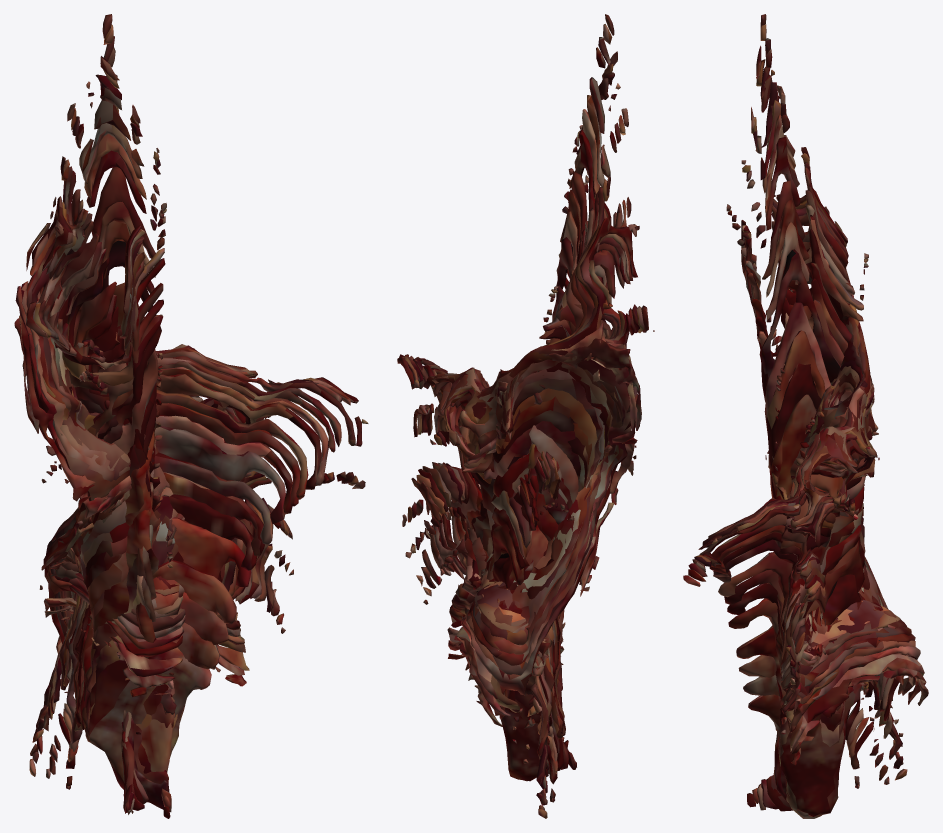
Rendered from Blood_10.fbx.
3 views of the same model, side by side, from view 1: azimuth 30°, elevation 25°; view 2: azimuth 150°, elevation 25°; view 3: azimuth 270°, elevation 25° (orthographic). The views are drawn at different scales.
Parts seen in each view (by area): view 1: LOD_1_Group_8_Sub_1__lambert2, LOD_1_Group_11_Sub_1__lambert2, LOD_1_Group_19_Sub_1__lambert2, LOD_1_Group_16_Sub_1__lambert2, LOD_1_Group_12_Sub_1__lambert2, LOD_1_Group_10_Sub_1__lambert2, LOD_1_Group_15_Sub_1__lambert2, LOD_1_Group_9_Sub_1__lambert2, LOD_1_Group_7_Sub_1__lambert2, LOD_1_Group_13_Sub_1__lambert2, LOD_1_Group_0_Sub_1__lambert2, LOD_1_Group_17_Sub_1__lambert2 (+11 smaller); view 2: LOD_1_Group_19_Sub_1__lambert2, LOD_1_Group_18_Sub_1__lambert2, LOD_1_Group_15_Sub_1__lambert2, LOD_1_Group_16_Sub_1__lambert2, LOD_1_Group_17_Sub_1__lambert2, LOD_1_Group_14_Sub_1__lambert2, LOD_1_Group_12_Sub_1__lambert2, LOD_1_Group_13_Sub_1__lambert2, LOD_1_Group_20_Sub_1__lambert2, LOD_1_Group_11_Sub_1__lambert2, LOD_1_Group_8_Sub_1__lambert2, LOD_1_Group_7_Sub_1__lambert2 (+10 smaller); view 3: LOD_1_Group_16_Sub_1__lambert2, LOD_1_Group_17_Sub_1__lambert2, LOD_1_Group_18_Sub_1__lambert2, LOD_1_Group_15_Sub_1__lambert2, LOD_1_Group_0_Sub_1__lambert2, LOD_1_Group_19_Sub_1__lambert2, LOD_1_Group_11_Sub_1__lambert2, LOD_1_Group_8_Sub_1__lambert2, LOD_1_Group_4_Sub_1__lambert2, LOD_1_Group_7_Sub_1__lambert2, LOD_1_Group_14_Sub_1__lambert2, LOD_1_Group_13_Sub_1__lambert2 (+11 smaller).
Boxes of the visible parts, left/top/right/bottom form: LOD_1_Group_8_Sub_1__lambert2: left=66, top=240, right=285, bottom=809; LOD_1_Group_11_Sub_1__lambert2: left=58, top=167, right=308, bottom=818; LOD_1_Group_19_Sub_1__lambert2: left=15, top=14, right=365, bottom=755; LOD_1_Group_16_Sub_1__lambert2: left=31, top=47, right=355, bottom=754; LOD_1_Group_12_Sub_1__lambert2: left=53, top=150, right=321, bottom=813; LOD_1_Group_10_Sub_1__lambert2: left=63, top=202, right=300, bottom=809; LOD_1_Group_15_Sub_1__lambert2: left=38, top=74, right=341, bottom=813; LOD_1_Group_9_Sub_1__lambert2: left=64, top=220, right=292, bottom=812; LOD_1_Group_7_Sub_1__lambert2: left=73, top=282, right=273, bottom=784; LOD_1_Group_13_Sub_1__lambert2: left=49, top=109, right=328, bottom=812; LOD_1_Group_0_Sub_1__lambert2: left=89, top=602, right=211, bottom=789; LOD_1_Group_17_Sub_1__lambert2: left=26, top=36, right=362, bottom=763; LOD_1_Group_19_Sub_1__lambert2: left=397, top=14, right=648, bottom=803; LOD_1_Group_18_Sub_1__lambert2: left=403, top=24, right=644, bottom=818; LOD_1_Group_15_Sub_1__lambert2: left=423, top=77, right=615, bottom=810; LOD_1_Group_16_Sub_1__lambert2: left=413, top=47, right=635, bottom=793; LOD_1_Group_17_Sub_1__lambert2: left=408, top=37, right=639, bottom=805; LOD_1_Group_14_Sub_1__lambert2: left=431, top=95, right=611, bottom=767; LOD_1_Group_12_Sub_1__lambert2: left=442, top=130, right=606, bottom=801; LOD_1_Group_13_Sub_1__lambert2: left=438, top=109, right=612, bottom=802; LOD_1_Group_20_Sub_1__lambert2: left=424, top=218, right=654, bottom=712; LOD_1_Group_11_Sub_1__lambert2: left=451, top=171, right=597, bottom=784; LOD_1_Group_8_Sub_1__lambert2: left=466, top=237, right=584, bottom=770; LOD_1_Group_7_Sub_1__lambert2: left=480, top=285, right=578, bottom=739; LOD_1_Group_16_Sub_1__lambert2: left=692, top=49, right=911, bottom=759; LOD_1_Group_17_Sub_1__lambert2: left=688, top=38, right=915, bottom=768; LOD_1_Group_18_Sub_1__lambert2: left=688, top=24, right=915, bottom=780; LOD_1_Group_15_Sub_1__lambert2: left=694, top=82, right=906, bottom=784; LOD_1_Group_0_Sub_1__lambert2: left=748, top=684, right=861, bottom=816; LOD_1_Group_19_Sub_1__lambert2: left=683, top=14, right=920, bottom=765; LOD_1_Group_11_Sub_1__lambert2: left=711, top=180, right=873, bottom=807; LOD_1_Group_8_Sub_1__lambert2: left=713, top=249, right=865, bottom=809; LOD_1_Group_4_Sub_1__lambert2: left=728, top=394, right=864, bottom=804; LOD_1_Group_7_Sub_1__lambert2: left=718, top=302, right=864, bottom=811; LOD_1_Group_14_Sub_1__lambert2: left=701, top=100, right=900, bottom=780; LOD_1_Group_13_Sub_1__lambert2: left=699, top=115, right=896, bottom=788.
Size of the model in its own units: 0.0335 by 0.087 by 0.025.
